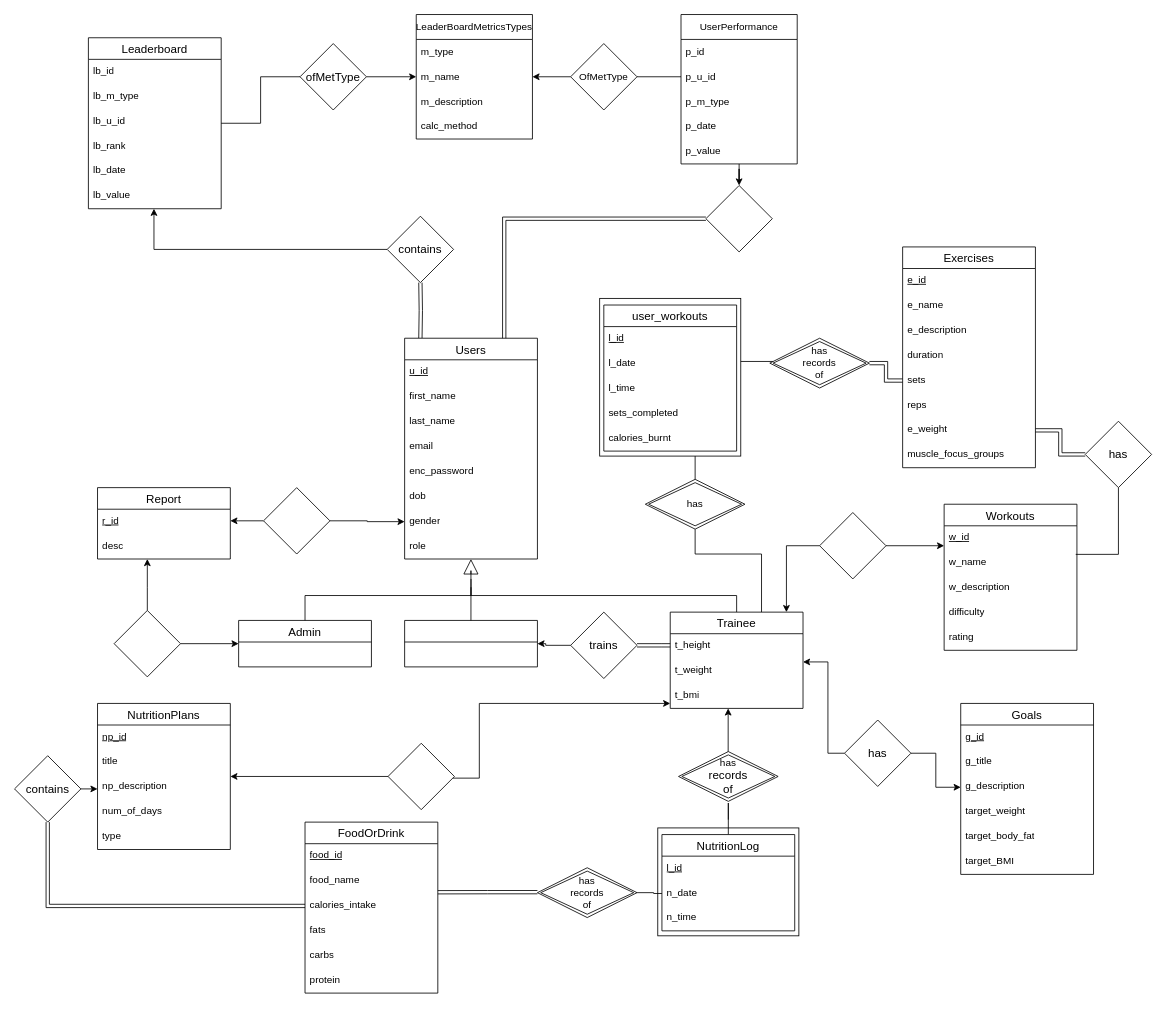
The diagram is 1166 pixels wide and 1010 high, and some of its shapes have lost their labels. The centre of each missing label's shape, as x and y in pixels:
"banned" goes at pixel 296 520.
"follows" goes at pixel 420 776.
"make report" goes at pixel 147 643.
"performs" goes at pixel 852 545.
"recordsFor" goes at pixel 738 218.
"Trainer" goes at pixel 470 643.
